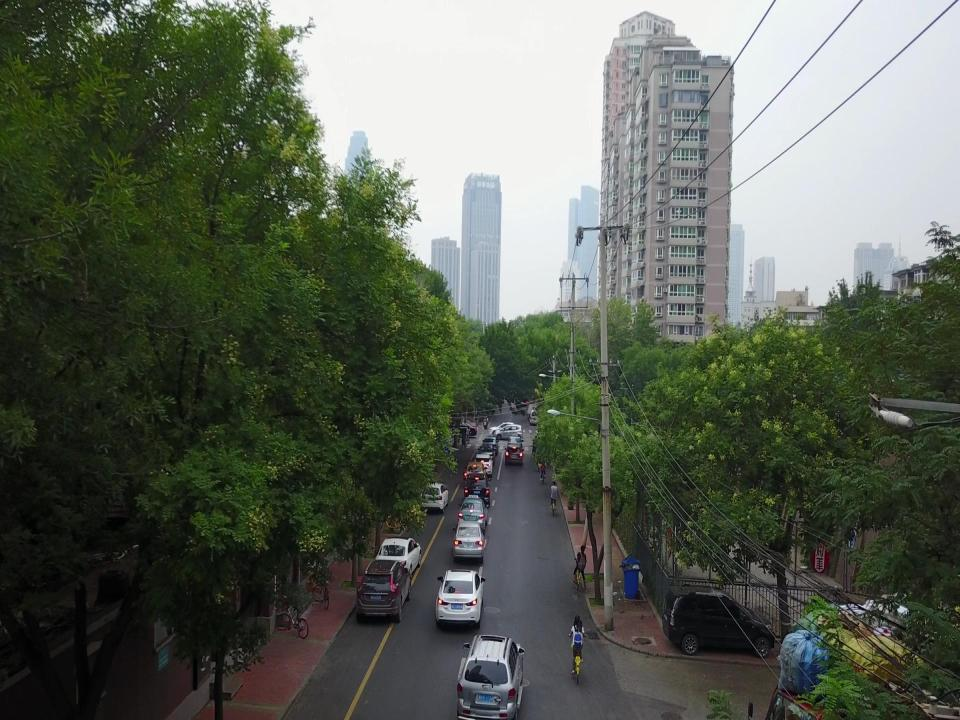car: (662, 583, 775, 659), (456, 633, 526, 720), (355, 559, 412, 624), (435, 568, 487, 629), (374, 536, 422, 577), (452, 519, 486, 563), (458, 495, 489, 532), (464, 473, 492, 508), (420, 480, 450, 512), (463, 461, 487, 487), (443, 422, 477, 437), (493, 424, 524, 440), (504, 442, 524, 466), (473, 454, 494, 476), (489, 422, 515, 436), (478, 444, 496, 463), (508, 434, 524, 454), (484, 434, 499, 454)
van: (527, 404, 541, 419), (529, 410, 541, 426)
